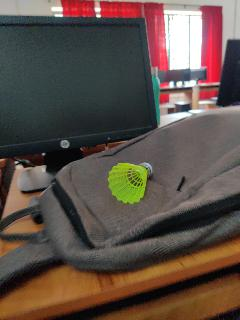shuttlecock: (108, 162, 152, 204)
